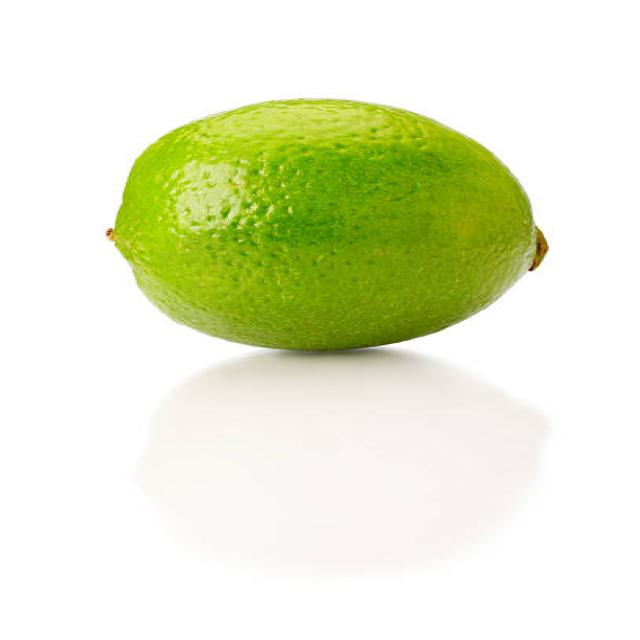Unripe: (110, 97, 550, 352)
